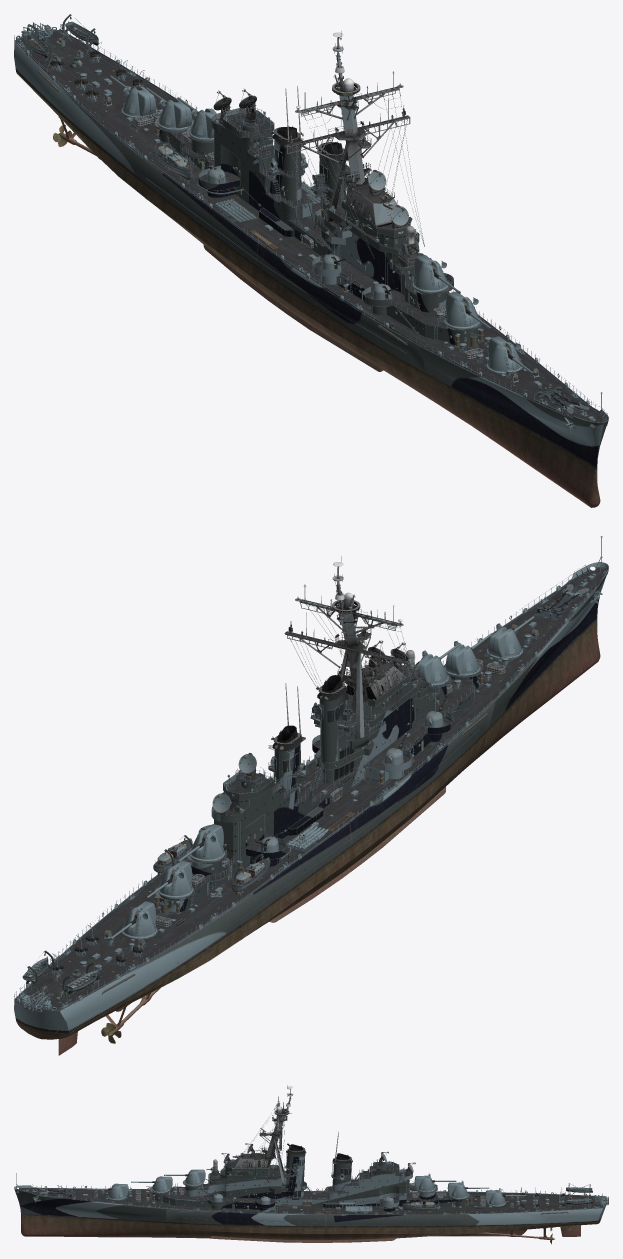
The model's file is us_claa_ticonderoga-maximum-compressed.glb.
The picture shows the model from 3 angles, top to bottom: view 1: azimuth 30°, elevation 25°; view 2: azimuth 150°, elevation 25°; view 3: azimuth 270°, elevation 25°; orthographic projection. The views are drawn at different scales.
Parts seen in each view (by area): view 1: HP_Bow_3138A137_4958_4972_90C4_2CF51DDDA573_0, HP_MidFront_93736791_CF29_4420_8626_01F585519448_0, HP_MidBack_668E0DA0_51D4_4116_BB8D_EE1A6560F739_0, object 378, HP_Stern_5150A044_20F6_44DD_8347_4BEA90AB54C1_0, object 359, object 373, HP_MidFront_957E9CB6_31D8_4BB9_A5F2_4A0381C5CF45_0, object 374, object 381, Turret002_Material #26_0, Turret004_Material #26_0 (+5 smaller); view 2: HP_MidBack_668E0DA0_51D4_4116_BB8D_EE1A6560F739_0, HP_MidFront_93736791_CF29_4420_8626_01F585519448_0, HP_Bow_3138A137_4958_4972_90C4_2CF51DDDA573_0, HP_Stern_5150A044_20F6_44DD_8347_4BEA90AB54C1_0, object 378, object 359, object 373, object 374, HP_MidFront_957E9CB6_31D8_4BB9_A5F2_4A0381C5CF45_0, object 381, Turret007_Material #26_0, Turret006_Material #26_0 (+4 smaller); view 3: HP_MidFront_93736791_CF29_4420_8626_01F585519448_0, HP_MidBack_668E0DA0_51D4_4116_BB8D_EE1A6560F739_0, HP_Bow_3138A137_4958_4972_90C4_2CF51DDDA573_0, HP_Stern_5150A044_20F6_44DD_8347_4BEA90AB54C1_0, object 378, object 359, object 373, HP_MidFront_957E9CB6_31D8_4BB9_A5F2_4A0381C5CF45_0, object 381, object 374, MP_AM341_Motor_boat_35ft_B342CBDC_3580_43A5_8F01_B7C7FB62DBE, HP_MidFront_40EA1787_FA96_4D17_9D4C_55897E224A8F_0 (+6 smaller).
Part boxes in pixels (x1,y1,x2,y2): HP_Bow_3138A137_4958_4972_90C4_2CF51DDDA573_0: (420, 327, 608, 507); HP_MidFront_93736791_CF29_4420_8626_01F585519448_0: (255, 141, 493, 404); HP_MidBack_668E0DA0_51D4_4116_BB8D_EE1A6560F739_0: (81, 89, 320, 299); object 378: (211, 108, 314, 224); HP_Stern_5150A044_20F6_44DD_8347_4BEA90AB54C1_0: (14, 23, 160, 159); object 359: (311, 142, 419, 284); object 373: (286, 31, 424, 255); HP_MidFront_957E9CB6_31D8_4BB9_A5F2_4A0381C5CF45_0: (314, 203, 478, 345); object 374: (284, 81, 409, 258); object 381: (344, 173, 397, 226); Turret002_Material #26_0: (487, 336, 521, 370); Turret004_Material #26_0: (445, 291, 479, 325); HP_MidBack_668E0DA0_51D4_4116_BB8D_EE1A6560F739_0: (84, 793, 352, 1005); HP_MidFront_93736791_CF29_4420_8626_01F585519448_0: (301, 664, 494, 878); HP_Bow_3138A137_4958_4972_90C4_2CF51DDDA573_0: (471, 536, 608, 758); HP_Stern_5150A044_20F6_44DD_8347_4BEA90AB54C1_0: (14, 934, 167, 1055); object 378: (211, 725, 316, 860); object 359: (311, 665, 419, 783); object 373: (286, 556, 419, 739); object 374: (284, 598, 424, 698); HP_MidFront_957E9CB6_31D8_4BB9_A5F2_4A0381C5CF45_0: (313, 675, 478, 769); object 381: (345, 656, 406, 700); Turret007_Material #26_0: (122, 901, 156, 935); Turret006_Material #26_0: (158, 860, 192, 894); HP_MidFront_93736791_CF29_4420_8626_01F585519448_0: (147, 1143, 331, 1242); HP_MidBack_668E0DA0_51D4_4116_BB8D_EE1A6560F739_0: (321, 1172, 514, 1242); HP_Bow_3138A137_4958_4972_90C4_2CF51DDDA573_0: (14, 1173, 166, 1237); HP_Stern_5150A044_20F6_44DD_8347_4BEA90AB54C1_0: (505, 1192, 608, 1239); object 378: (322, 1153, 412, 1203); object 359: (220, 1144, 306, 1205); object 373: (226, 1085, 293, 1183); HP_MidFront_957E9CB6_31D8_4BB9_A5F2_4A0381C5CF45_0: (152, 1177, 276, 1204); object 381: (232, 1150, 272, 1168); object 374: (244, 1103, 291, 1160); MP_AM341_Motor_boat_35ft_B342CBDC_3580_43A5_8F01_B7C7FB62DBE: (402, 1201, 437, 1210); HP_MidFront_40EA1787_FA96_4D17_9D4C_55897E224A8F_0: (151, 1145, 315, 1214).
Size of the model in its own units: 0.015 by 0.0344 by 0.1209.
67 materials, 64 textured.
